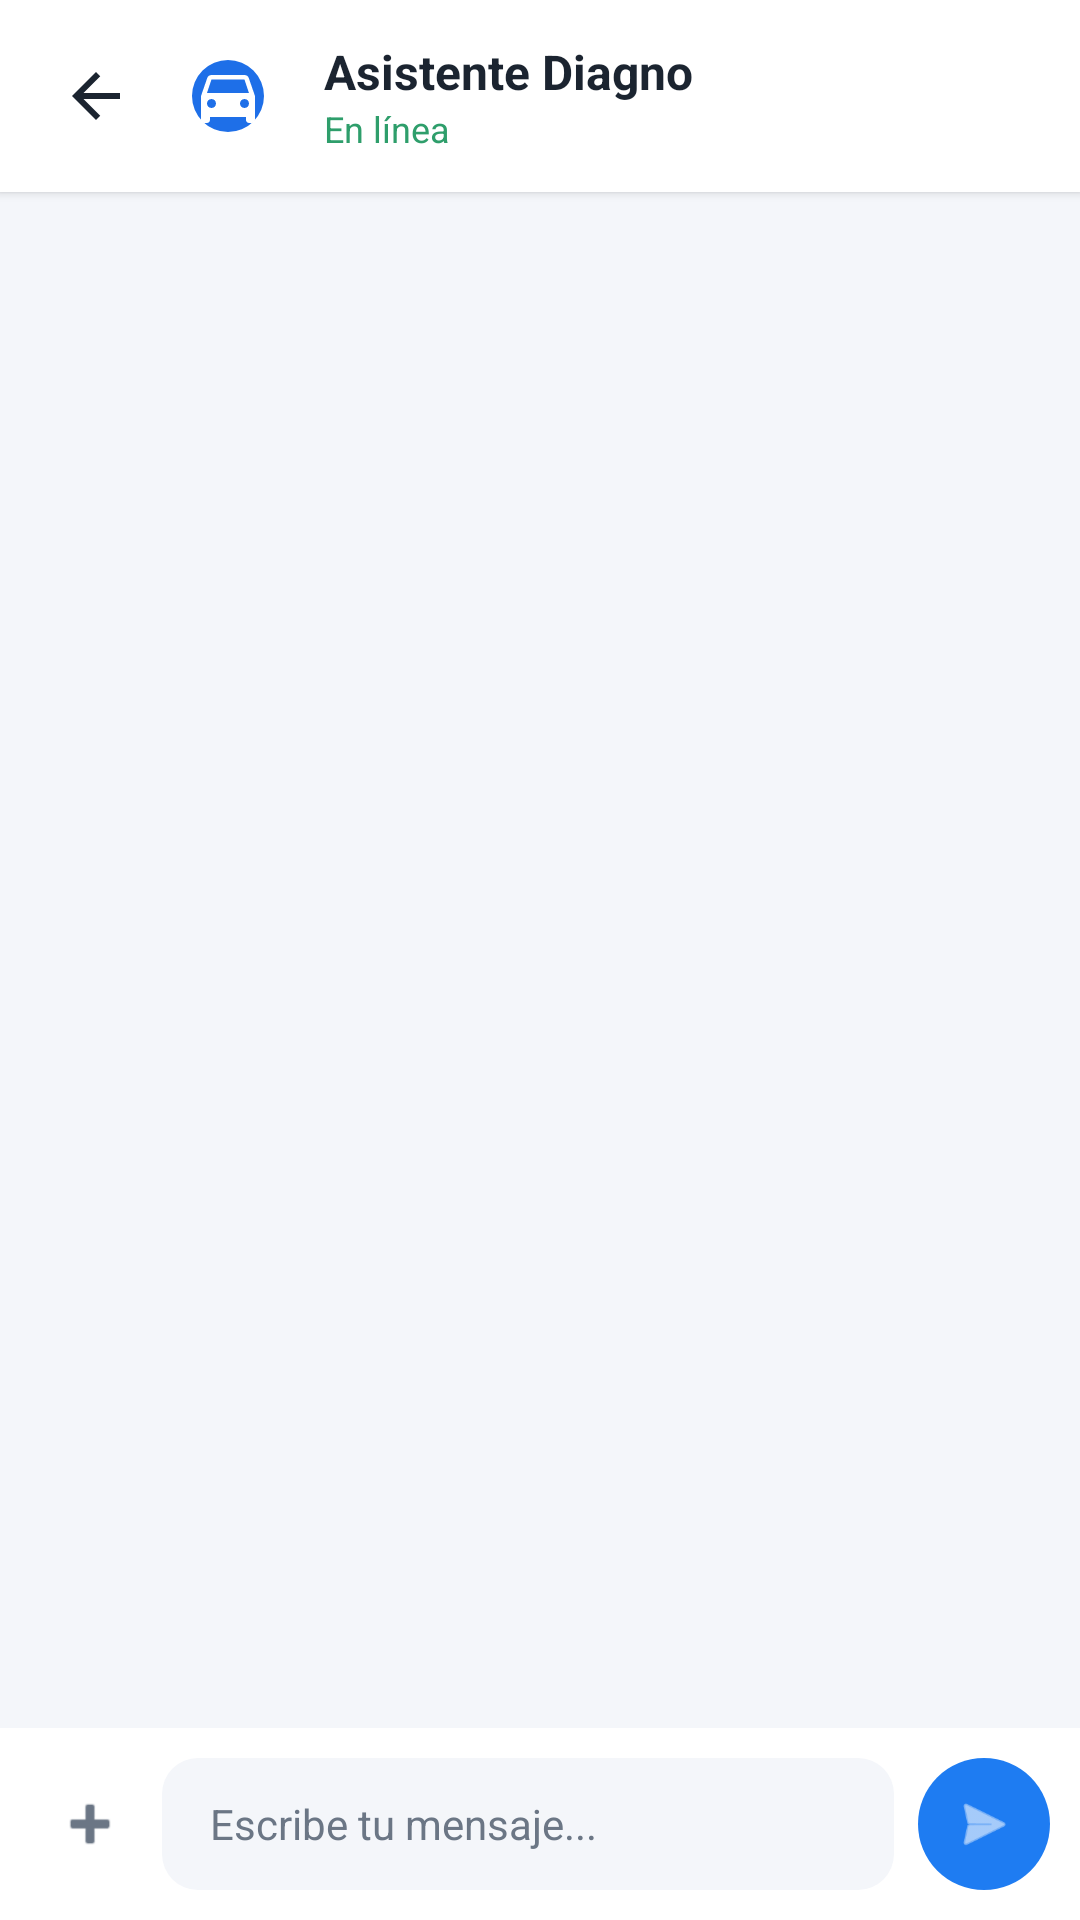

Locate icon controls on the screen. Image size 1080px×1920px, boxes as (x1, y1, x2, y2).
Adjuntar: (70, 1804, 110, 1844)
Enviar: (918, 1758, 1050, 1890)
nivel auto: (192, 60, 264, 132)
Volver: (72, 72, 120, 120)
